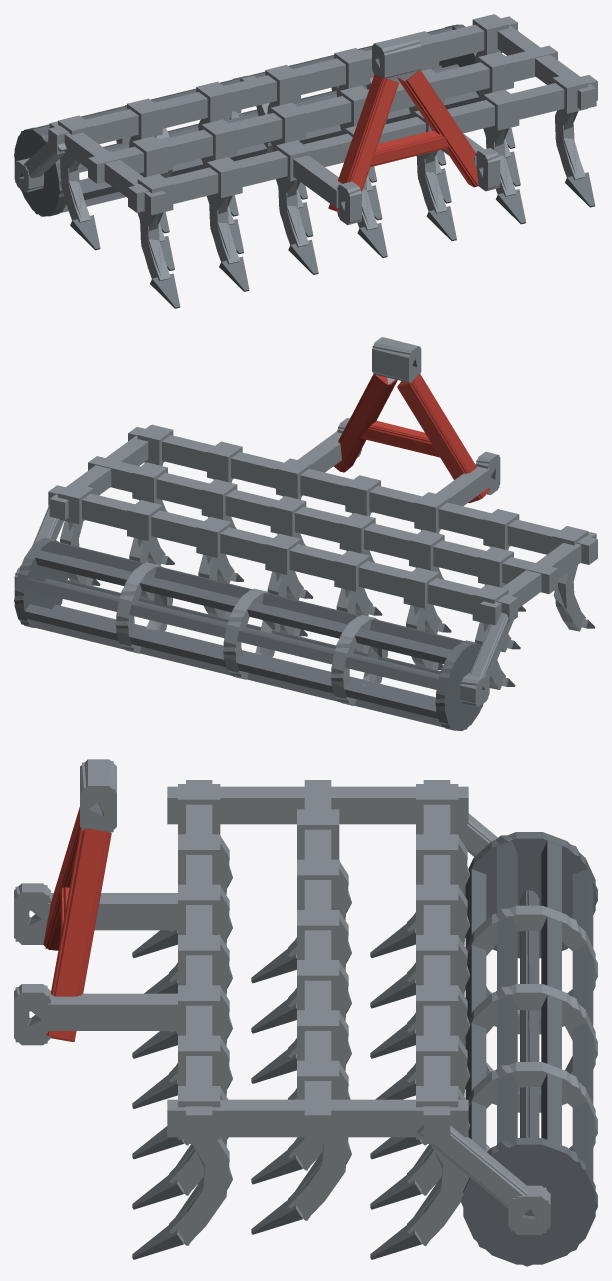
Rendered from FMS_Mach_Cultivator.fbx.
3 views of the same model, one above another, from view 1: azimuth 30°, elevation 25°; view 2: azimuth 150°, elevation 25°; view 3: azimuth 270°, elevation 25° (orthographic). The views are drawn at different scales.
Visible parts, largest first — view 1: Frame, Frame_Low1, Roller, Roller_Low1; view 2: Frame, Roller, Frame_Low1, Roller_Low1; view 3: Frame, Frame_Low1, Roller, Roller_Low1.
Boxes of the visible parts, <box> form: Frame: <box>14,14,597,308</box>; Frame_Low1: <box>15,14,597,276</box>; Roller: <box>14,24,480,216</box>; Roller_Low1: <box>14,50,478,214</box>; Frame: <box>14,337,597,706</box>; Roller: <box>14,539,481,730</box>; Frame_Low1: <box>15,337,597,705</box>; Roller_Low1: <box>14,537,483,729</box>; Frame: <box>14,759,550,1259</box>; Frame_Low1: <box>15,761,548,1245</box>; Roller: <box>463,832,595,1264</box>; Roller_Low1: <box>461,835,597,1266</box>.
Size of the model in its own units: 3 by 1.41 by 2.21.
